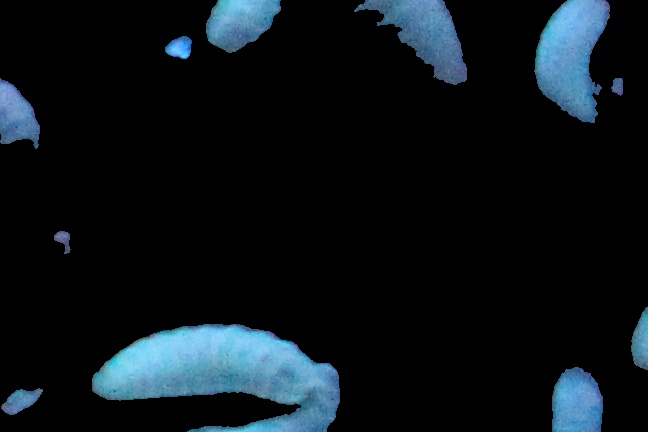larvae: (86, 325, 316, 405), (199, 357, 361, 432), (522, 1, 607, 141), (353, 1, 468, 91), (541, 359, 612, 432), (202, 1, 287, 56)
